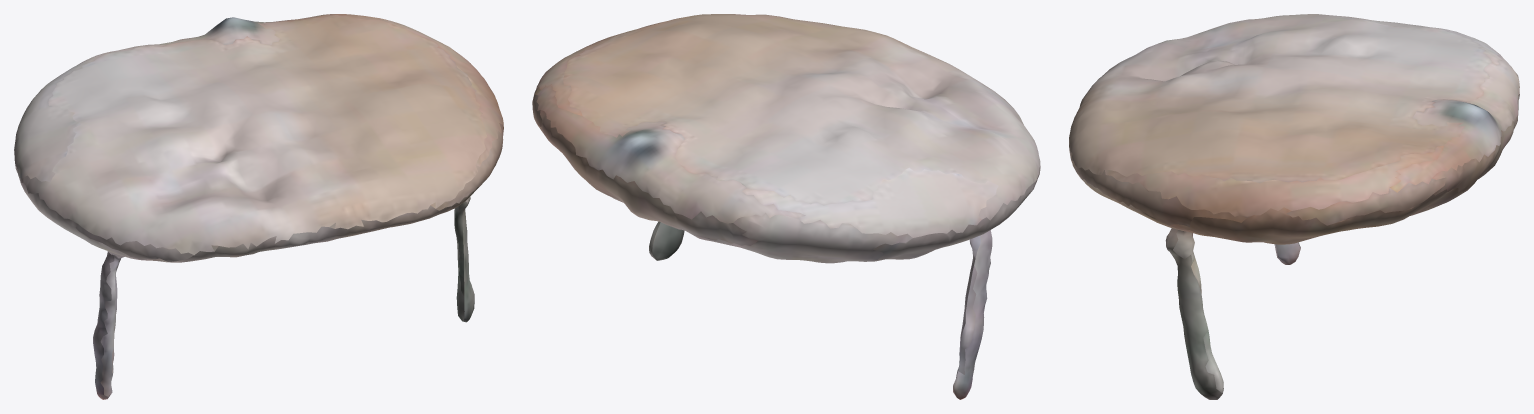
Rendered from 12_chair.glb.
3 views of the same model, side by side, from view 1: azimuth 30°, elevation 25°; view 2: azimuth 150°, elevation 25°; view 3: azimuth 270°, elevation 25° (orthographic). The views are drawn at different scales.
Visible parts, largest first — view 1: 12_chair; view 2: 12_chair; view 3: 12_chair.
Part boxes in pixels (box(x1,y1,x2,y2)): 12_chair: box(14, 14, 503, 399); 12_chair: box(532, 14, 1040, 399); 12_chair: box(1069, 14, 1519, 399).
Size of the model in its own units: 2.13 by 1.24 by 1.88.
Materials: 1 (1 with a texture image).
